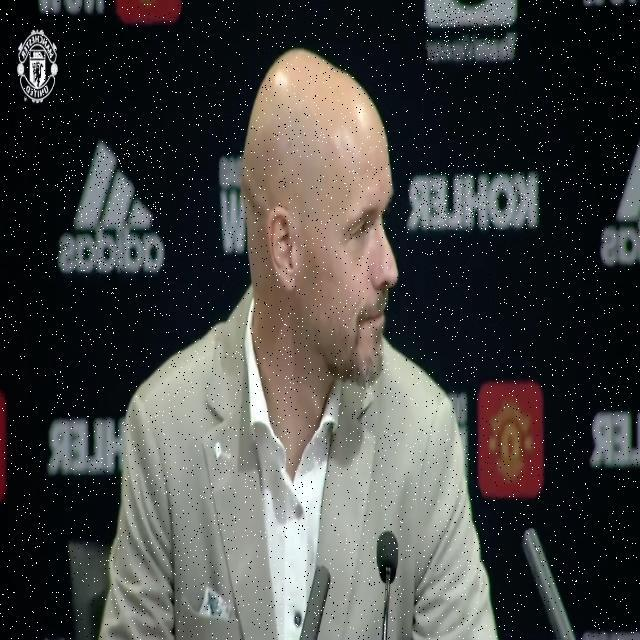Adidas: (59, 141, 164, 275)
Kohler: (407, 172, 538, 230)
TeamViewer: (426, 3, 516, 60)
